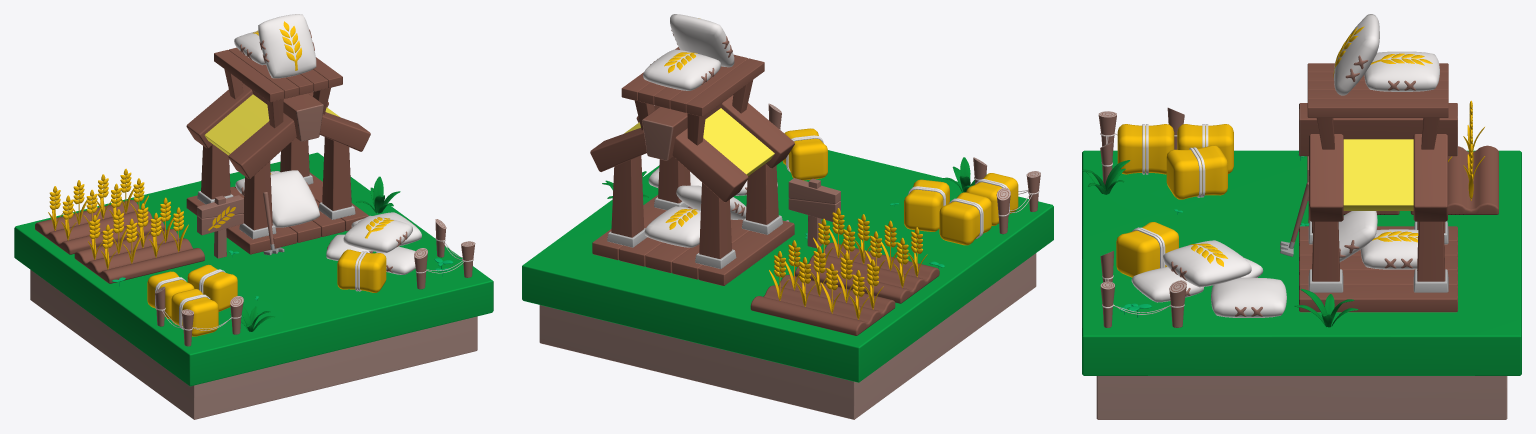
Rendered from Farm_Island_4.glb.
3 views of the same model, side by side, from view 1: azimuth 30°, elevation 25°; view 2: azimuth 150°, elevation 25°; view 3: azimuth 270°, elevation 25° (orthographic). The views are drawn at different scales.
Parts seen in each view (by area): view 1: Farm_4_Base_1, Farm_4_Warehouse_1, Farm_4_Stand_1, Farm_4_Garden_1, Farm_4_Bag_Wheat_Ear_2, Farm_4_Garden_2, Farm_4_Bag_2, Farm_4_Haystack_3, Farm_4_Bag_Wheat_Ear_4, Farm_4_Sighn_Wheat_Ear_1, Farm_4_Haystack_2, Farm_4_Haystack_4 (+8 smaller); view 2: Farm_4_Base_1, Farm_4_Warehouse_1, Farm_4_Stand_1, Farm_4_Garden_2, Farm_4_Garden_1, Farm_4_Bag_Wheat_Ear_1, Farm_4_Haystack_1, Farm_4_Bag_Wheat_Ear_2, Farm_4_Sighn_Wheat_Ear_1, Farm_4_Haystack_4, Farm_4_Haystack_3, Farm_4_Bag_Wheat_Ear_3 (+3 smaller); view 3: Farm_4_Base_1, Farm_4_Warehouse_1, Farm_4_Stand_1, Farm_4_Garden_2, Farm_4_Haystack_4, Farm_4_Bag_Wheat_Ear_4, Farm_4_Bag_1, Farm_4_Bag_Wheat_Ear_1, Farm_4_Haystack_2, Farm_4_Haystack_3, Farm_4_Bag_Wheat_Ear_2, Farm_4_Bag_Wheat_Ear_3 (+8 smaller).
Part boxes in pixels (x1,y1,x2,y2): Farm_4_Base_1: (14, 152, 493, 419); Farm_4_Warehouse_1: (186, 82, 370, 254); Farm_4_Stand_1: (214, 47, 342, 128); Farm_4_Garden_1: (74, 229, 204, 283); Farm_4_Bag_Wheat_Ear_2: (258, 14, 316, 78); Farm_4_Garden_2: (35, 199, 164, 254); Farm_4_Bag_2: (270, 170, 319, 227); Farm_4_Haystack_3: (337, 249, 386, 292); Farm_4_Bag_Wheat_Ear_4: (343, 215, 412, 252); Farm_4_Sighn_Wheat_Ear_1: (197, 195, 243, 258); Farm_4_Haystack_2: (171, 289, 218, 336); Farm_4_Haystack_4: (187, 264, 237, 311); Farm_4_Base_1: (522, 150, 1053, 419); Farm_4_Warehouse_1: (590, 94, 794, 285); Farm_4_Stand_1: (621, 47, 764, 145); Farm_4_Garden_2: (750, 275, 895, 335); Farm_4_Garden_1: (795, 242, 939, 303); Farm_4_Bag_Wheat_Ear_1: (643, 49, 721, 90); Farm_4_Haystack_1: (939, 192, 991, 245); Farm_4_Bag_Wheat_Ear_2: (670, 14, 734, 67); Farm_4_Sighn_Wheat_Ear_1: (788, 178, 840, 248); Farm_4_Haystack_4: (904, 179, 949, 231); Farm_4_Haystack_3: (783, 128, 827, 180); Farm_4_Bag_Wheat_Ear_3: (644, 206, 700, 247); Farm_4_Base_1: (1082, 150, 1521, 419); Farm_4_Warehouse_1: (1299, 103, 1457, 312); Farm_4_Stand_1: (1307, 63, 1448, 149); Farm_4_Garden_2: (1410, 145, 1498, 214); Farm_4_Haystack_4: (1166, 145, 1227, 199); Farm_4_Bag_Wheat_Ear_4: (1162, 240, 1251, 287); Farm_4_Bag_1: (1211, 277, 1286, 317); Farm_4_Bag_Wheat_Ear_1: (1364, 51, 1439, 91); Farm_4_Haystack_2: (1117, 124, 1174, 174); Farm_4_Haystack_3: (1116, 222, 1178, 277); Farm_4_Bag_Wheat_Ear_2: (1333, 14, 1379, 95); Farm_4_Bag_Wheat_Ear_3: (1360, 229, 1418, 269).
Size of the model in its own units: 11.31 by 9.65 by 11.2.
44 materials, 44 textured.
